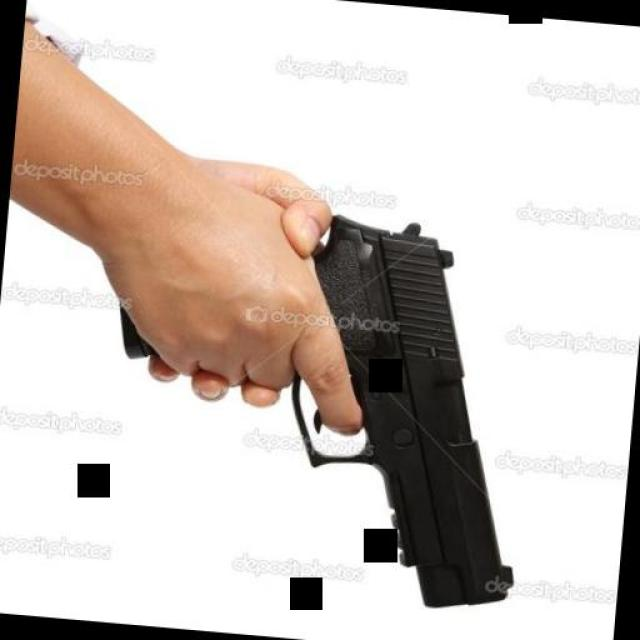gun: (45, 184, 563, 628)
